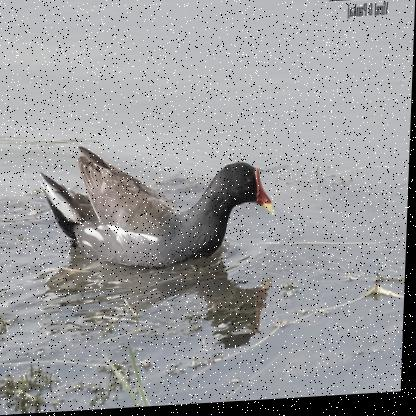Burung: (40, 137, 280, 273)
